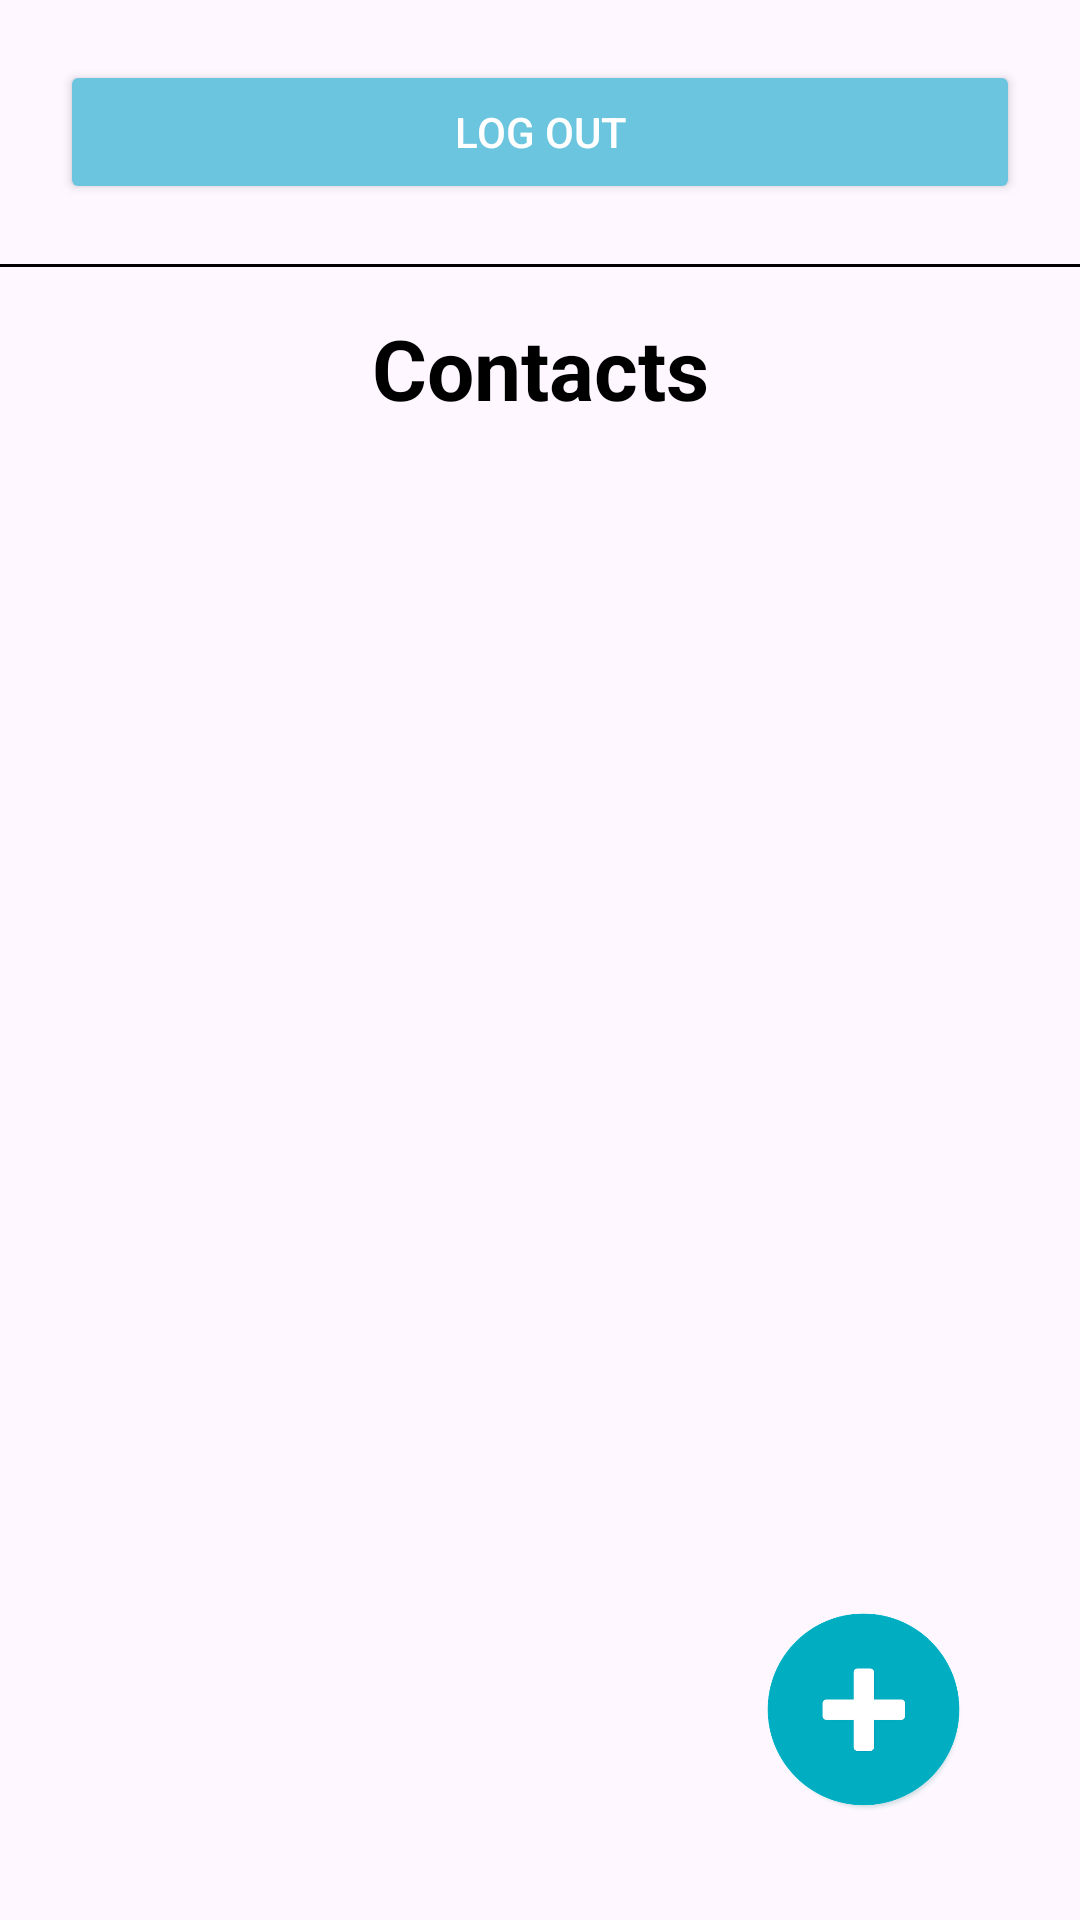

Icons on this 1080px x 1920px Android screen, each with the point to tap as (x=x, y=y):
addcontact: (x=863, y=1710)
